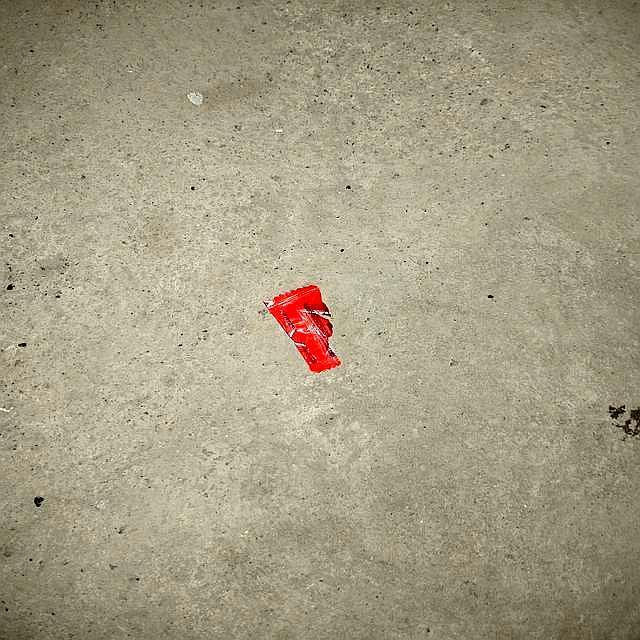Non-biodegradable: (262, 283, 343, 376)
